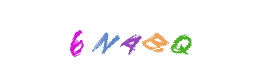6: (60, 0, 140, 80)
A: (87, 0, 167, 80)
B: (119, 0, 199, 80)
N: (68, 0, 148, 80)
Q: (141, 0, 221, 80)
